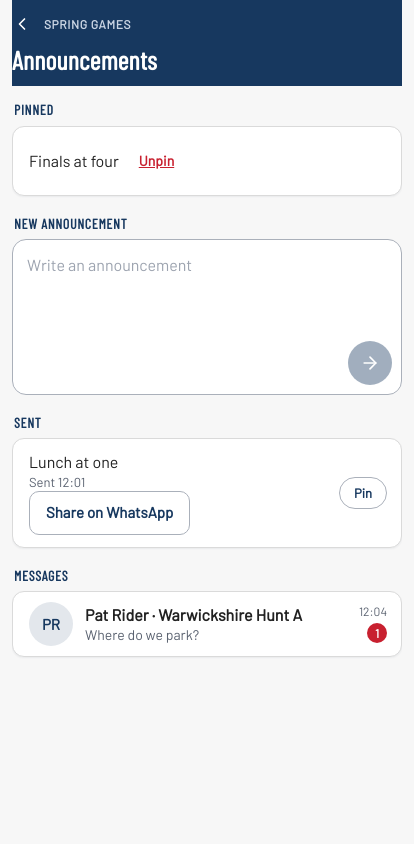
Scenario: AnnouncementsPage › pins a sent announcement as the new notice and clears the old one
Click the button with aria-label "Pin: Lunch at one".
click(363, 493)  # box left=339, top=477, right=387, bottom=509
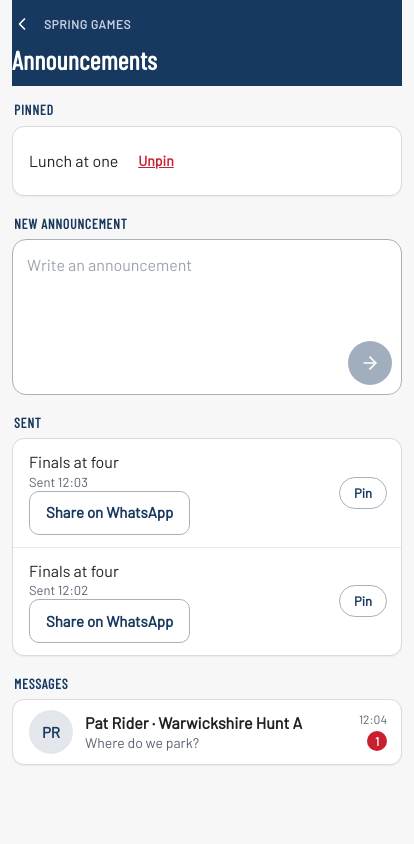
Expected: the text "Lunch at one" is shown, left=29, top=150, right=118, bottom=172
